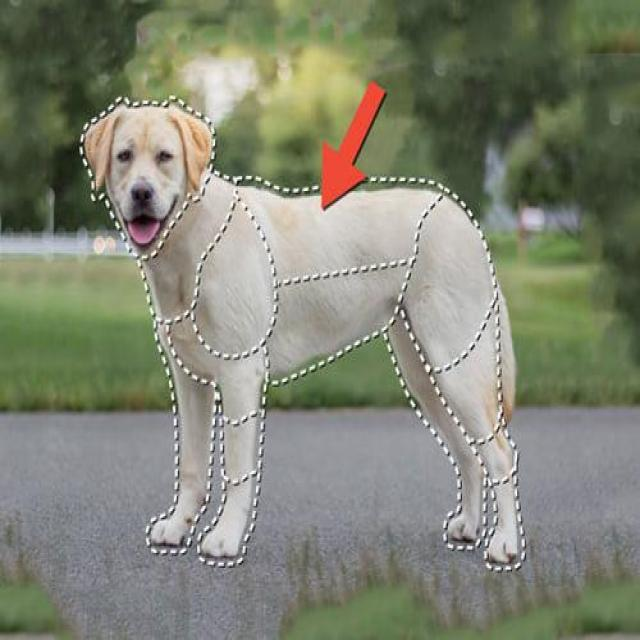dog: (74, 94, 542, 564)
